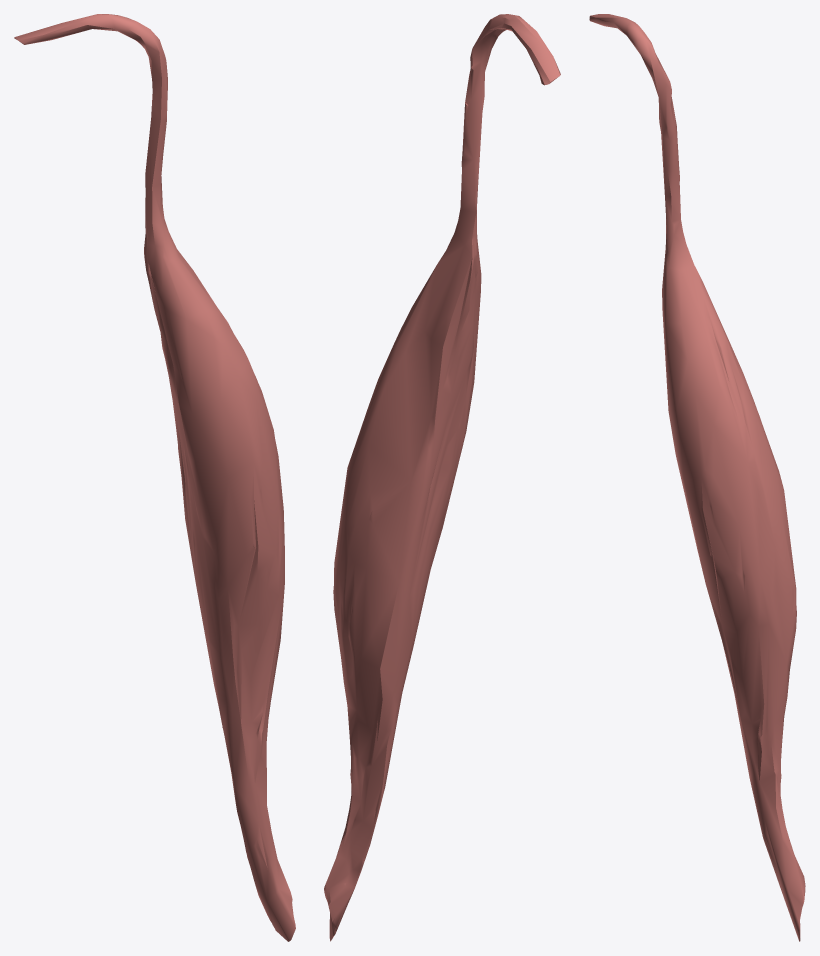
Rendered from fma37687_fj1478m.glb.
3 renders of one model, left to right at view 1: azimuth 30°, elevation 25°; view 2: azimuth 150°, elevation 25°; view 3: azimuth 330°, elevation 25°, orthographic. The views are drawn at different scales.
Parts seen in each view (by area): view 1: FMA37687_FJ1478M; view 2: FMA37687_FJ1478M; view 3: FMA37687_FJ1478M.
Boxes of the visible parts, x1,y1,x2,y2 form: FMA37687_FJ1478M: (14, 14, 295, 941); FMA37687_FJ1478M: (324, 14, 560, 941); FMA37687_FJ1478M: (589, 14, 805, 941).
Size of the model in its own units: 0.0946 by 0.3453 by 0.0415.
